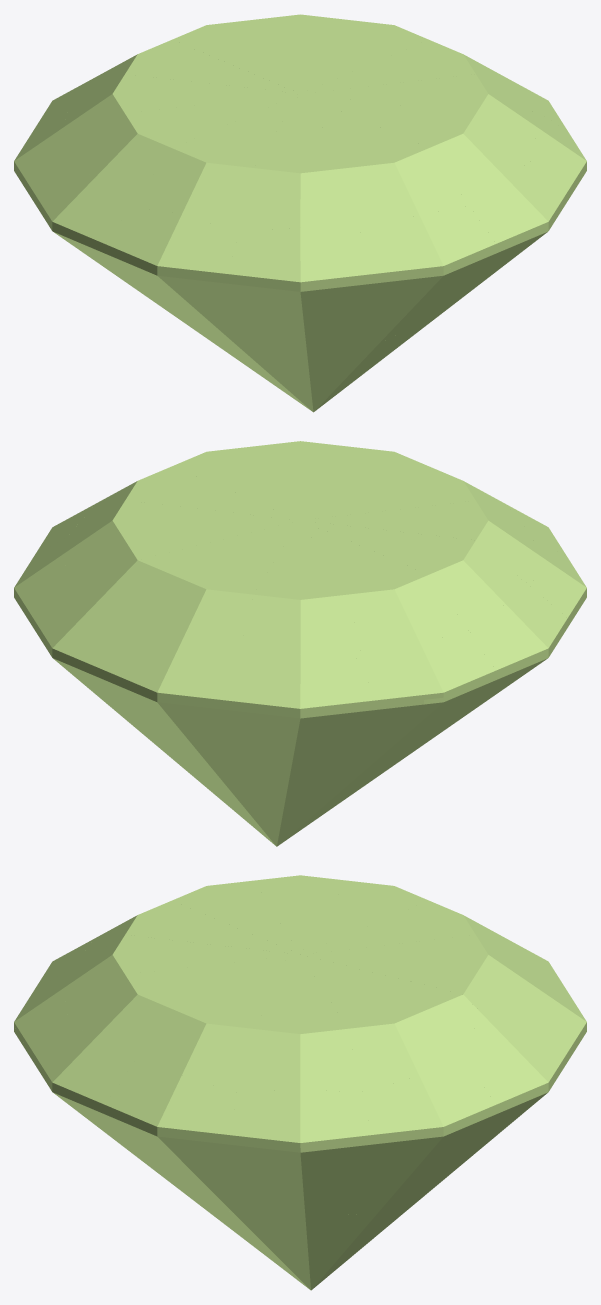
The model's file is gem.glb.
The picture shows the model from 3 angles, top to bottom: view 1: azimuth 30°, elevation 25°; view 2: azimuth 150°, elevation 25°; view 3: azimuth 270°, elevation 25°; orthographic projection.
Parts seen in each view (by area): view 1: gem, gem_cell.016, gem_cell.029, gem_cell.012, gem_cell.025, gem_cell.011, gem_cell.003, gem_cell.028, gem_cell.022, gem_cell.005, gem_cell.015, gem_cell.033 (+10 smaller); view 2: gem, gem_cell.015, gem_cell.035, gem_cell.028, gem_cell.025, gem_cell.033, gem_cell.029, gem_cell.010, gem_cell.017, gem_cell.018, gem_cell.021, gem_cell.016 (+9 smaller); view 3: gem, gem_cell.033, gem_cell.030, gem_cell.015, gem_cell.011, gem_cell.034, gem_cell.023, gem_cell.010, gem_cell.001, gem_cell.026, gem_cell.012, gem_cell.006 (+10 smaller).
Boxes of the visible parts, x1,y1,x2,y2 form: gem: (14,14,586,412); gem_cell.016: (239,94,361,232); gem_cell.029: (131,94,299,232); gem_cell.012: (301,94,469,231); gem_cell.025: (70,94,299,205); gem_cell.011: (301,94,530,205); gem_cell.003: (229,228,371,282); gem_cell.028: (63,74,298,160); gem_cell.022: (363,206,495,273); gem_cell.005: (105,206,238,273); gem_cell.015: (172,14,300,93); gem_cell.033: (300,14,428,93); gem: (14,446,586,846); gem_cell.015: (124,520,299,658); gem_cell.035: (239,521,362,658); gem_cell.028: (301,521,469,658); gem_cell.025: (301,520,530,632); gem_cell.033: (64,500,298,587); gem_cell.029: (301,500,537,586); gem_cell.010: (33,575,130,670); gem_cell.017: (363,633,495,700); gem_cell.018: (244,654,371,708); gem_cell.021: (470,588,567,670); gem_cell.016: (302,466,530,534); gem: (14,881,586,1252); gem_cell.033: (301,955,473,1092); gem_cell.030: (239,955,361,1092); gem_cell.015: (301,935,532,1014); gem_cell.011: (69,955,298,1066); gem_cell.034: (229,1088,371,1147); gem_cell.023: (149,955,299,1092); gem_cell.010: (470,1009,567,1104); gem_cell.001: (362,1067,495,1134); gem_cell.026: (105,1067,238,1134); gem_cell.012: (63,935,298,1021); gem_cell.006: (208,1201,411,1290).
Bounding box in the file's own units: 3.21 × 2.02 × 3.21.
